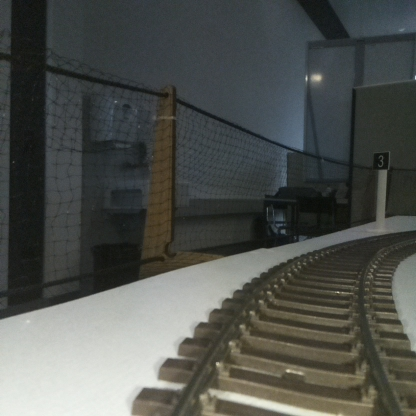black-info-3: (373, 151, 389, 230)
